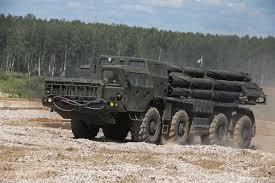MIL_SAM_TEL: (43, 52, 267, 151)
